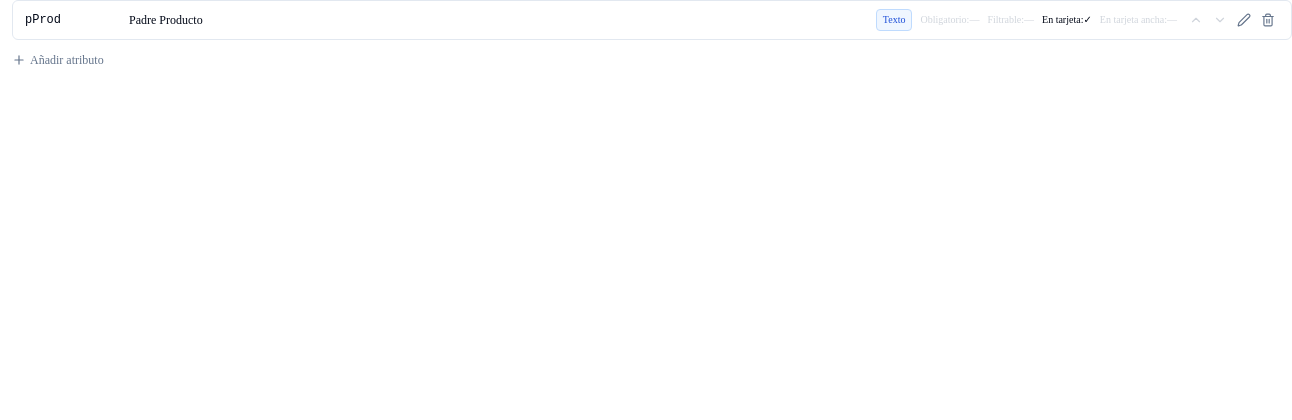
Test case: AttributeSchemaEditor — impacto en subcategorías (contador, editando el PADRE) › el impacto de "card ampliada" (wideCardAttribute) se calcula independiente del estándar
This screenshot has width=1292, height=420.
Click the button with test id "add-attribute-btn" at (58, 60), box [12, 52, 104, 68]
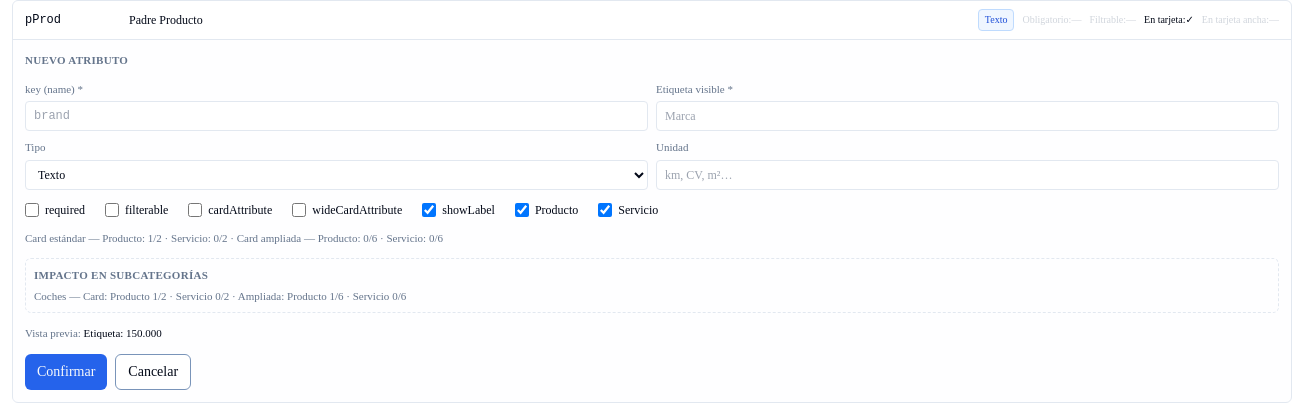
Type "pWide" into the field with test id "attr-name-input" at (336, 116), box [25, 101, 648, 131]
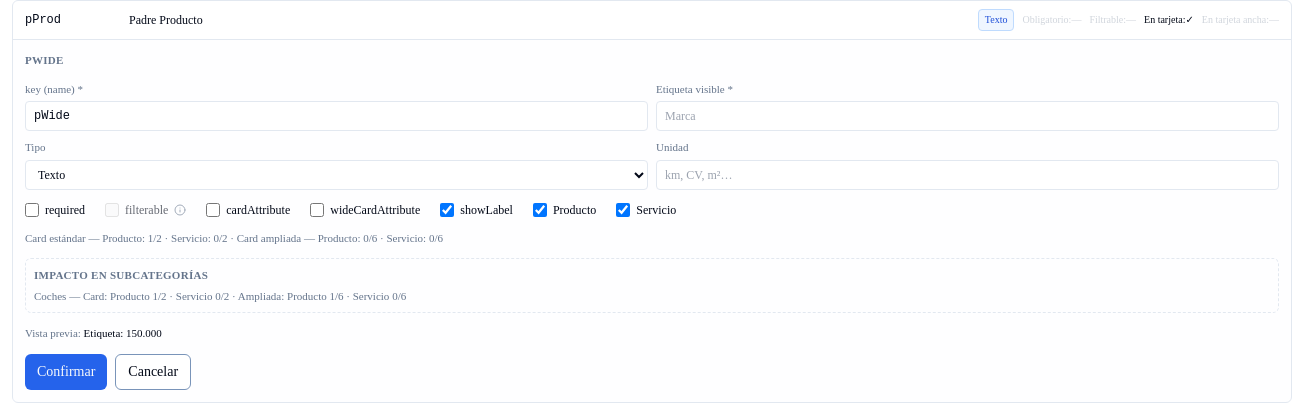
Type "Padre Wide" into the field with test id "attr-label-input" at (968, 116), box [656, 101, 1279, 131]
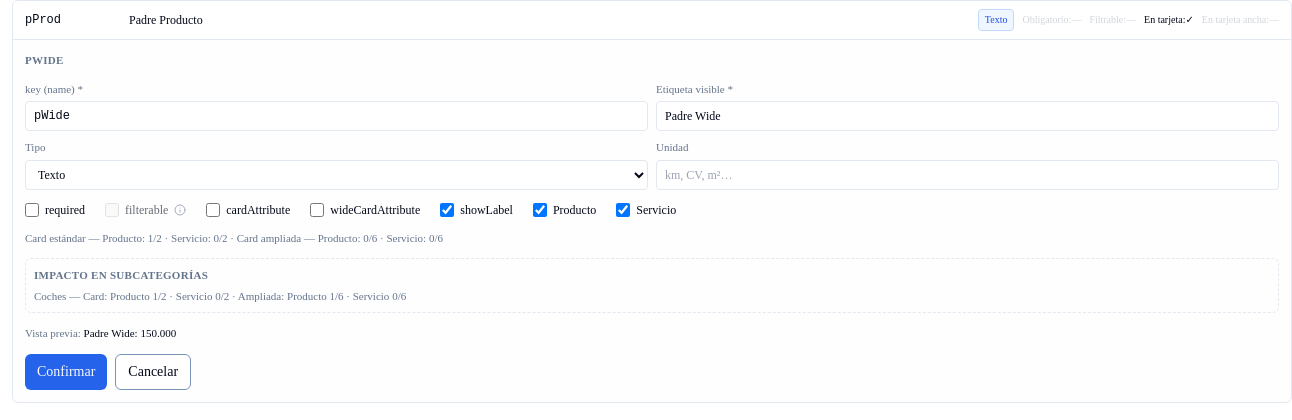
Click the checkbox with test id "applies-to-service-checkbox" at (623, 210), box [616, 202, 630, 216]
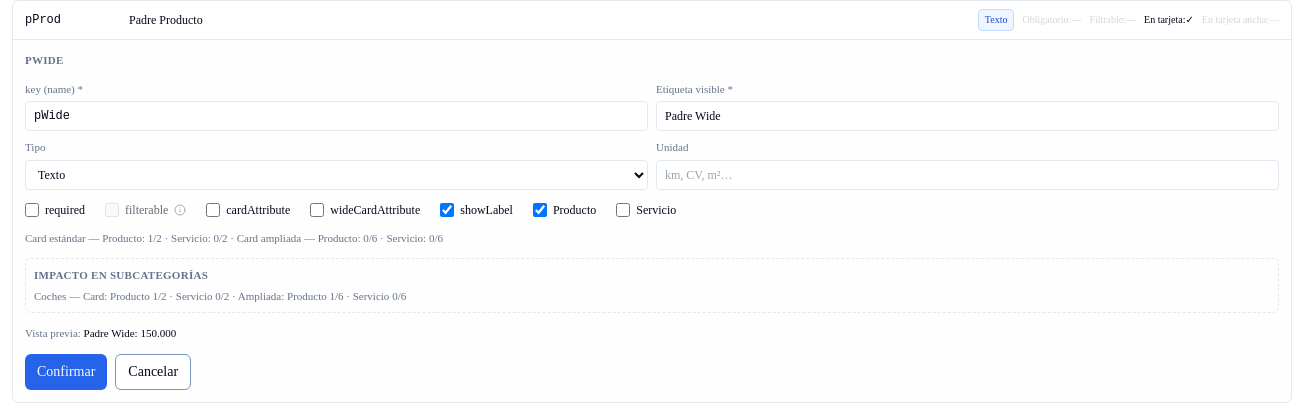
Click the checkbox with test id "wide-card-attribute-checkbox" at (317, 210), box [310, 202, 324, 216]
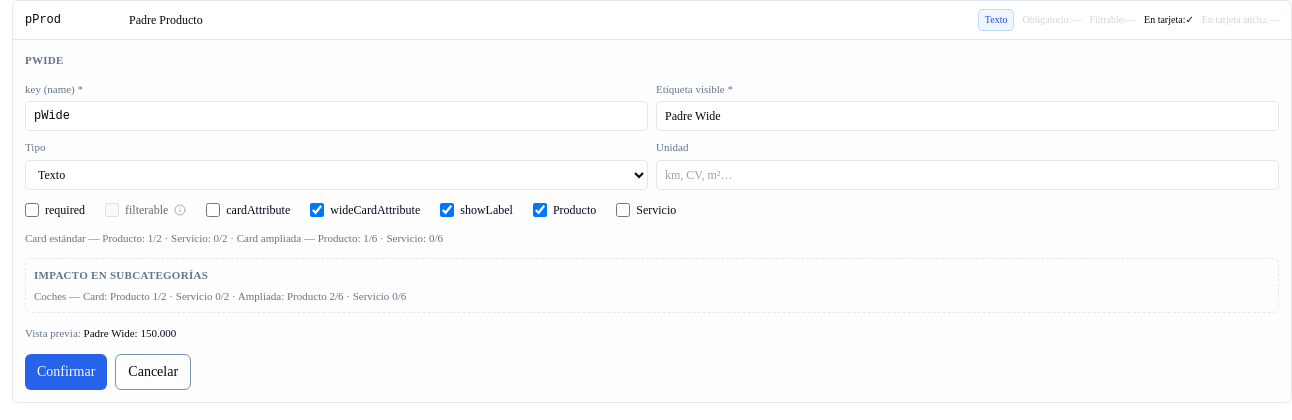
Result: the text with test id "child-impact-Coches" shows "Producto 1/2" at [34, 290, 406, 302]
Result: the text with test id "child-impact-Coches" shows "Ampliada: Producto 2/6" at [34, 290, 406, 302]
